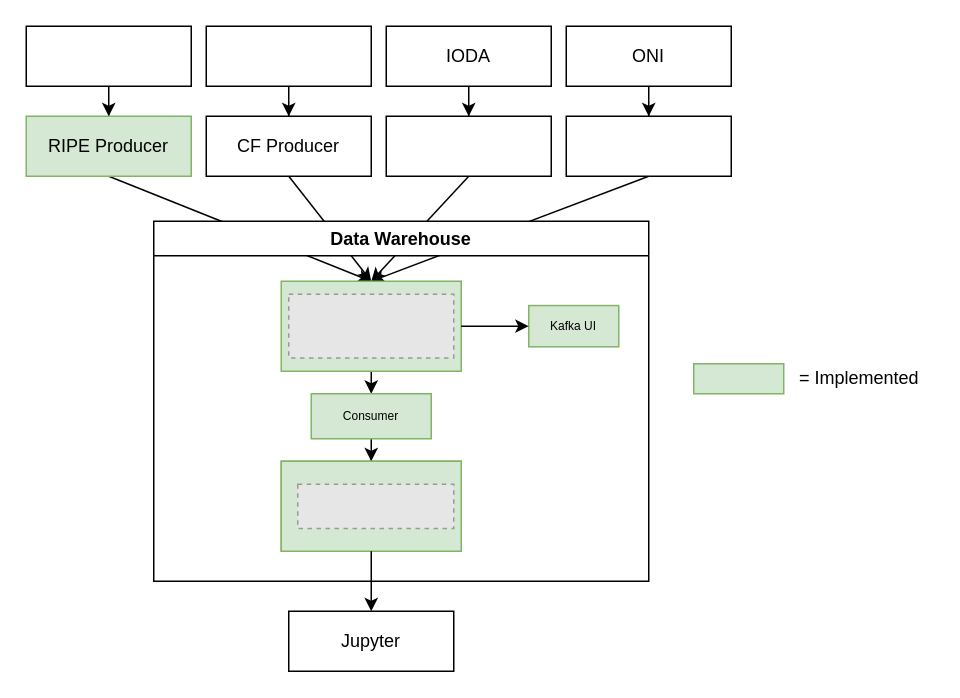
This 960x698 diagram has some shape labels left out. Grey dashed boxes stand in for pictures. The centre of each missing label's shape, as x and y in pixels:
Cloudflare Radar: pixel 288 55
IODA Producer: pixel 468 145
ONI Producer: pixel 648 145
RIPE ATLAS: pixel 108 55
